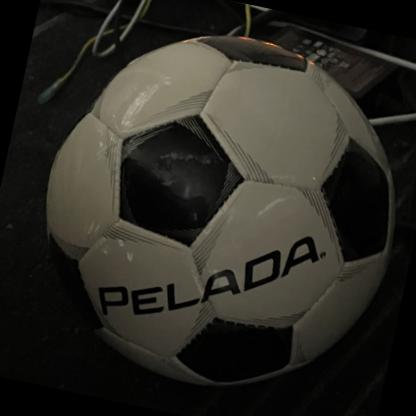ball: (11, 2, 416, 416)
